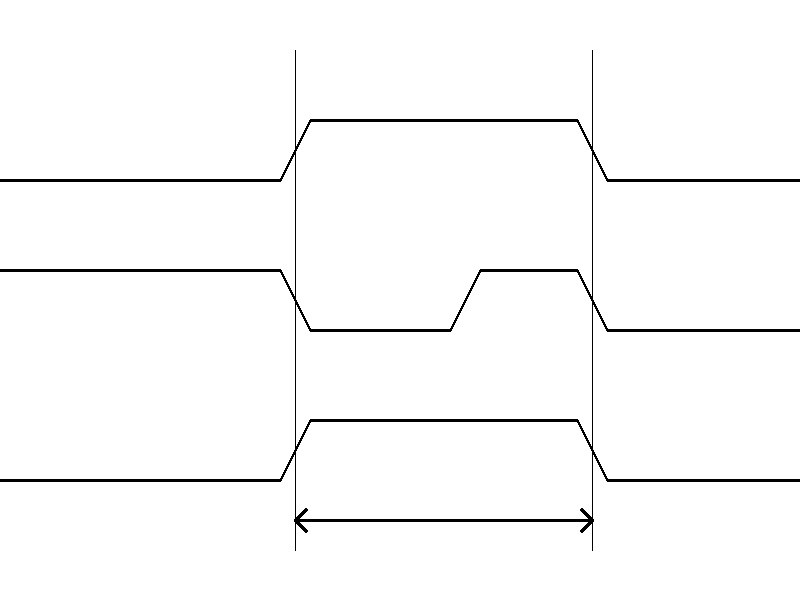double_arrow: (295, 505, 592, 535)
